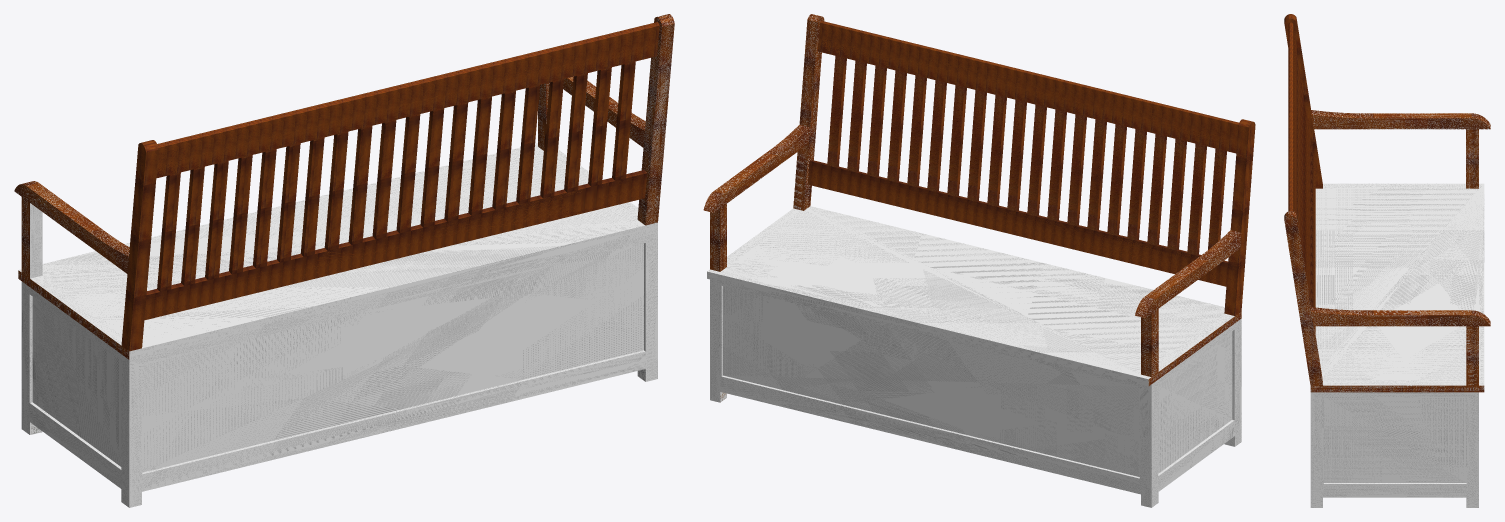
3 views of the same model, side by side, from view 1: azimuth 30°, elevation 25°; view 2: azimuth 150°, elevation 25°; view 3: azimuth 270°, elevation 25° (orthographic). The views are drawn at different scales.
Parts seen in each view (by area): view 1: mesh65_mesh65-geometry, mesh1_mesh1-geometry, mesh62_mesh62-geometry, mesh63_mesh63-geometry, mesh64_mesh64-geometry; view 2: mesh65_mesh65-geometry, mesh1_mesh1-geometry, mesh62_mesh62-geometry, mesh64_mesh64-geometry, mesh63_mesh63-geometry; view 3: mesh65_mesh65-geometry, mesh1_mesh1-geometry, mesh63_mesh63-geometry, mesh64_mesh64-geometry, mesh62_mesh62-geometry.
Boxes of the visible parts, x1,y1,x2,y2 form: mesh65_mesh65-geometry: (18,82,657,507); mesh1_mesh1-geometry: (121,22,659,351); mesh62_mesh62-geometry: (637,14,674,225); mesh63_mesh63-geometry: (14,181,129,273); mesh64_mesh64-geometry: (563,76,645,147); mesh65_mesh65-geometry: (707,204,1241,507); mesh1_mesh1-geometry: (807,20,1255,315); mesh62_mesh62-geometry: (793,14,824,210); mesh64_mesh64-geometry: (703,125,809,212); mesh63_mesh63-geometry: (1135,230,1241,318); mesh65_mesh65-geometry: (1310,129,1484,507); mesh1_mesh1-geometry: (1284,14,1322,333); mesh63_mesh63-geometry: (1311,110,1490,129); mesh64_mesh64-geometry: (1311,307,1490,326); mesh62_mesh62-geometry: (1284,211,1322,385).
Bounding box in the file's own units: 0.7804 × 0.5268 × 0.3369.
